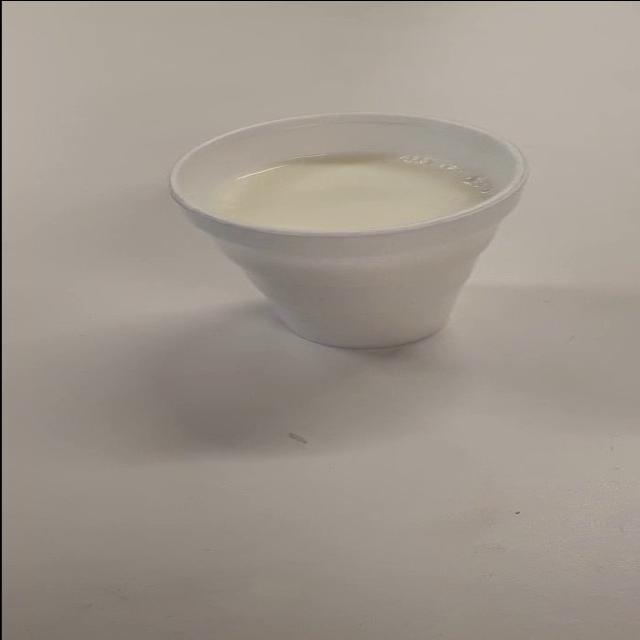Milk: (172, 103, 575, 347)
